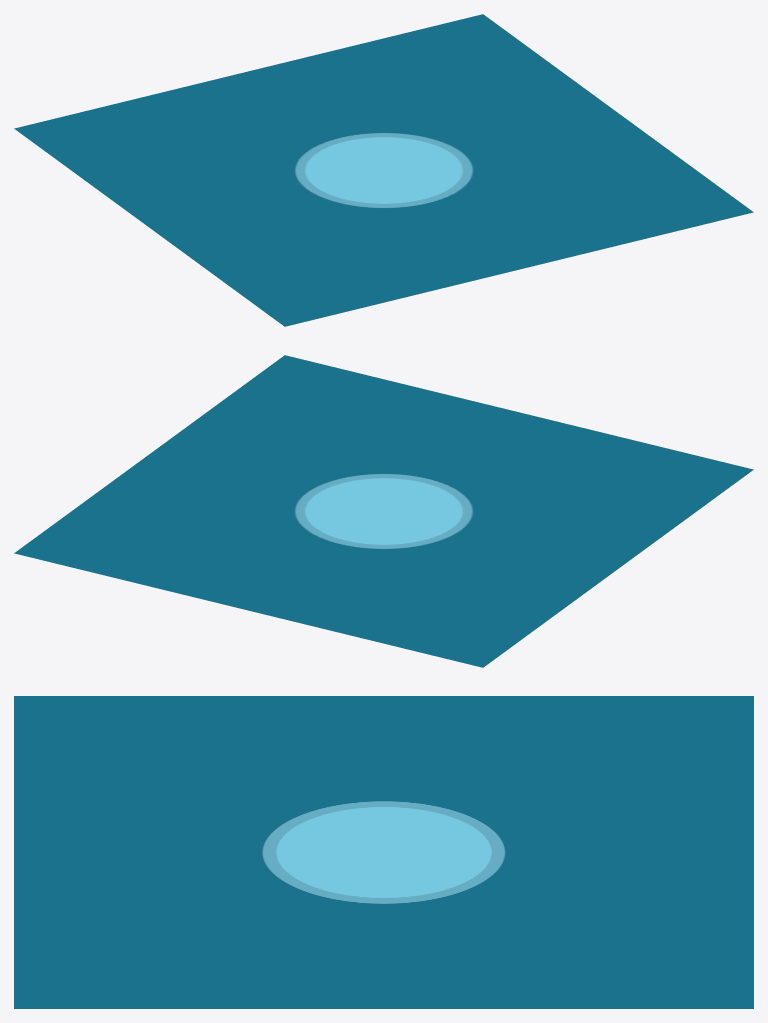
The model's file is Stretched Edge Plane.FBX.
The picture shows the model from 3 angles, top to bottom: view 1: azimuth 30°, elevation 25°; view 2: azimuth 150°, elevation 25°; view 3: azimuth 270°, elevation 25°; orthographic projection. The views are drawn at different scales.
Visible parts, largest first — view 1: Plane001; view 2: Plane001; view 3: Plane001.
Boxes of the visible parts, x1,y1,x2,y2 form: Plane001: (14,14,753,326); Plane001: (14,355,753,667); Plane001: (14,696,753,1008).
Bounding box in the file's own units: 139 × 6.1e-06 × 139.
